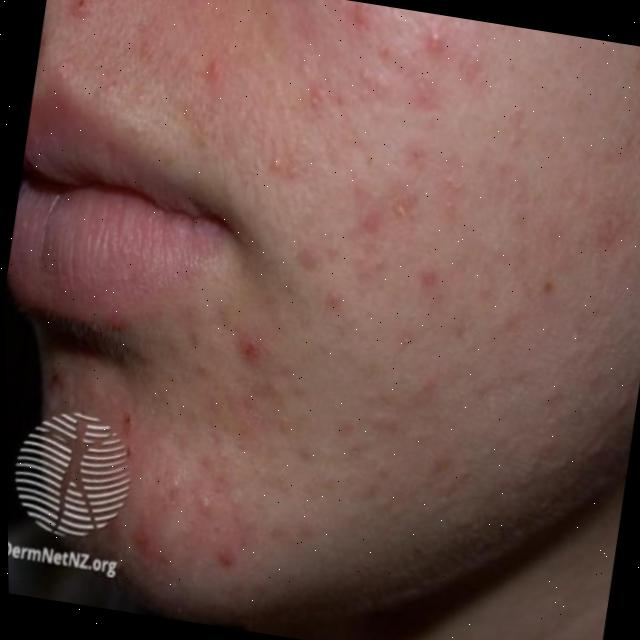Acne: (24, 0, 558, 514)
